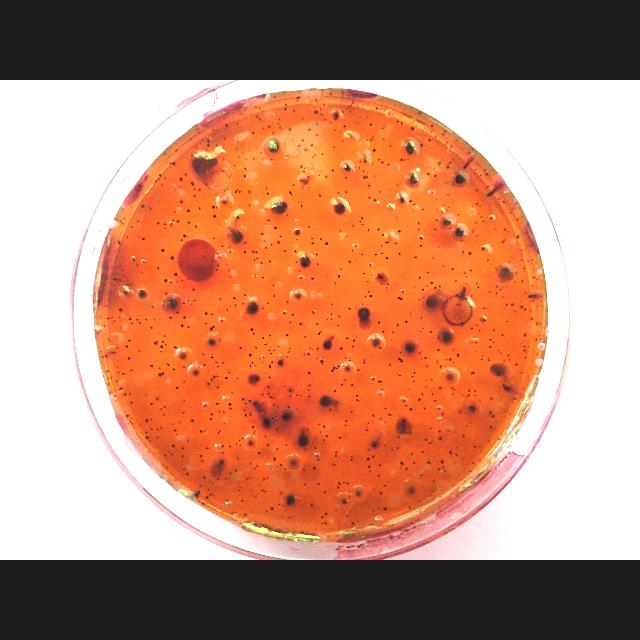colony: (191, 150, 217, 176), (394, 416, 414, 436), (332, 200, 348, 216), (266, 139, 282, 153), (356, 316, 372, 330), (490, 363, 506, 377), (246, 300, 258, 318), (424, 294, 438, 308), (300, 254, 312, 270), (356, 306, 372, 318), (404, 140, 416, 156), (272, 200, 286, 213), (230, 229, 242, 243), (318, 394, 330, 408), (454, 224, 466, 238), (278, 410, 294, 420), (284, 494, 296, 506), (404, 342, 416, 354), (500, 267, 512, 279), (455, 173, 467, 185), (166, 298, 178, 310), (260, 418, 272, 428), (298, 435, 308, 447), (442, 331, 452, 343), (409, 172, 419, 184), (250, 372, 260, 383), (254, 401, 262, 414), (206, 337, 216, 347), (342, 163, 352, 173), (138, 288, 148, 298), (502, 383, 512, 393), (398, 194, 406, 206), (372, 337, 381, 347), (324, 340, 332, 350), (216, 457, 226, 465), (442, 218, 452, 226), (332, 111, 340, 121), (374, 272, 384, 280), (246, 439, 254, 448), (290, 458, 298, 467), (408, 486, 417, 494), (446, 373, 454, 381), (294, 228, 302, 236), (220, 198, 228, 206), (178, 354, 188, 360), (459, 286, 469, 292), (276, 359, 284, 366), (295, 292, 301, 300), (192, 369, 198, 377), (344, 365, 350, 373), (340, 498, 348, 504), (356, 490, 362, 498), (372, 442, 378, 448), (122, 290, 128, 296), (438, 418, 444, 424), (272, 456, 278, 462), (226, 502, 232, 508), (269, 505, 275, 511), (260, 478, 268, 482), (260, 401, 266, 405), (202, 404, 208, 408), (112, 277, 118, 281), (212, 374, 216, 380), (334, 366, 338, 372), (298, 322, 304, 326), (208, 327, 214, 331), (117, 240, 121, 246), (252, 274, 258, 278), (179, 176, 183, 182), (410, 126, 414, 132), (288, 190, 292, 196), (480, 246, 486, 250), (456, 353, 460, 359), (468, 405, 474, 409), (490, 412, 494, 418), (378, 392, 384, 396), (448, 449, 452, 455), (376, 474, 382, 478), (379, 490, 383, 496), (382, 507, 388, 511), (310, 502, 314, 508), (278, 462, 282, 468), (283, 466, 287, 472), (316, 481, 320, 487), (263, 488, 267, 494), (225, 498, 229, 504), (396, 252, 402, 255), (384, 240, 390, 243), (421, 142, 424, 148), (288, 388, 292, 392), (388, 112, 392, 116), (154, 341, 158, 345), (170, 256, 174, 260), (132, 258, 136, 262), (156, 266, 160, 270), (174, 272, 178, 276), (169, 222, 173, 226), (180, 200, 184, 204), (119, 307, 123, 311), (106, 316, 110, 320), (128, 317, 132, 321), (144, 318, 148, 322), (152, 318, 156, 322), (168, 316, 172, 320), (180, 323, 184, 327), (127, 357, 131, 361), (150, 364, 154, 368), (158, 373, 162, 377), (161, 372, 165, 376), (166, 363, 170, 367), (128, 392, 132, 396), (119, 387, 123, 391), (149, 402, 153, 406), (190, 419, 194, 423), (145, 419, 149, 423), (126, 414, 130, 418), (146, 436, 150, 440), (171, 444, 175, 448), (205, 495, 209, 499), (211, 482, 215, 486), (228, 444, 232, 448), (238, 444, 242, 448), (251, 425, 255, 429), (228, 402, 232, 406), (268, 364, 272, 368), (248, 364, 252, 368), (248, 353, 252, 357), (269, 352, 273, 356), (285, 355, 289, 359), (268, 334, 272, 338), (332, 366, 336, 370), (352, 338, 356, 342), (317, 332, 321, 336), (288, 321, 292, 325), (291, 312, 295, 316), (282, 311, 286, 315), (285, 300, 289, 304), (272, 294, 276, 298), (312, 310, 316, 314), (377, 321, 381, 325), (397, 296, 401, 300), (401, 290, 405, 294), (369, 294, 373, 298), (363, 294, 367, 298), (384, 286, 388, 290), (363, 272, 367, 276), (337, 274, 341, 278), (348, 260, 352, 264), (298, 276, 302, 280), (314, 253, 318, 257), (374, 252, 378, 256), (385, 257, 389, 261), (380, 243, 384, 247), (360, 217, 364, 221), (324, 242, 328, 246), (311, 242, 315, 246), (300, 204, 304, 208), (277, 240, 281, 244), (274, 226, 278, 230), (266, 218, 270, 222), (270, 243, 274, 247), (264, 246, 268, 250), (261, 276, 265, 280), (266, 302, 270, 306), (210, 312, 214, 316), (203, 321, 207, 325), (218, 338, 222, 342), (185, 298, 189, 302), (172, 162, 176, 166), (191, 182, 195, 186), (243, 174, 247, 178), (288, 128, 292, 132), (296, 96, 300, 100), (314, 110, 318, 114), (372, 149, 376, 153), (428, 138, 432, 142), (434, 135, 438, 139), (409, 199, 413, 203), (318, 194, 322, 198), (235, 215, 239, 219), (303, 148, 307, 152), (434, 218, 438, 222), (413, 256, 417, 260), (502, 238, 506, 242), (516, 235, 520, 239), (489, 215, 493, 219), (418, 276, 422, 280), (510, 302, 514, 306), (504, 302, 508, 306), (482, 318, 486, 322), (488, 338, 492, 342), (471, 371, 475, 375), (466, 393, 470, 397), (438, 364, 442, 368), (436, 348, 440, 352), (448, 358, 452, 362), (368, 263, 372, 267), (420, 236, 424, 240), (448, 227, 452, 231), (401, 274, 405, 278), (173, 346, 177, 350), (130, 322, 134, 326), (378, 380, 382, 384), (355, 394, 359, 398), (356, 398, 360, 402), (380, 388, 384, 392), (372, 414, 376, 418), (464, 412, 468, 416), (489, 425, 493, 429), (378, 346, 382, 350), (438, 429, 442, 433), (447, 428, 451, 432), (424, 438, 428, 442), (454, 453, 458, 457), (400, 461, 404, 465), (410, 452, 414, 456), (440, 460, 444, 464), (437, 468, 441, 472), (371, 455, 375, 459), (372, 487, 376, 491), (334, 508, 338, 512), (324, 512, 328, 516), (320, 515, 324, 519), (336, 486, 340, 490), (346, 482, 350, 486), (349, 458, 353, 462), (322, 425, 326, 429), (318, 422, 322, 426), (306, 427, 310, 431), (325, 434, 329, 438), (334, 450, 338, 454), (313, 446, 317, 450), (303, 448, 307, 452), (266, 443, 270, 447), (315, 454, 319, 458), (332, 462, 336, 466), (302, 482, 306, 486), (253, 466, 257, 470), (228, 472, 232, 476), (243, 512, 247, 516), (265, 510, 269, 514), (160, 250, 167, 252), (195, 225, 198, 229), (213, 215, 217, 218), (165, 292, 168, 296), (150, 326, 154, 329), (125, 344, 128, 348), (122, 372, 125, 376), (172, 368, 175, 372), (175, 386, 179, 389), (210, 354, 213, 358), (207, 382, 210, 386), (224, 376, 228, 379), (115, 380, 118, 384), (170, 452, 173, 456), (187, 472, 190, 476), (202, 476, 205, 480), (196, 491, 200, 494), (206, 446, 210, 449), (220, 444, 223, 448), (286, 351, 290, 354), (262, 344, 268, 346), (341, 382, 344, 386), (356, 368, 359, 372), (331, 302, 334, 306), (396, 323, 399, 327), (404, 321, 408, 324), (345, 235, 349, 238), (279, 235, 283, 238), (263, 240, 267, 243), (251, 250, 255, 253), (243, 250, 247, 253), (252, 258, 255, 262), (228, 250, 232, 253), (212, 237, 215, 241), (217, 264, 220, 268), (232, 296, 235, 300), (250, 328, 253, 332), (182, 301, 185, 305), (190, 154, 193, 158), (252, 156, 255, 160), (351, 102, 355, 105), (438, 162, 442, 165), (426, 172, 430, 175), (431, 191, 434, 195), (366, 185, 372, 187), (266, 192, 270, 195), (238, 190, 242, 193), (432, 228, 438, 230), (419, 245, 423, 248), (462, 250, 464, 256), (468, 252, 472, 255), (486, 258, 489, 262), (426, 284, 429, 288), (524, 332, 526, 338), (506, 354, 509, 358), (438, 386, 442, 389), (431, 378, 434, 382), (421, 316, 424, 320), (116, 346, 120, 349), (384, 406, 388, 409), (431, 438, 434, 442), (421, 451, 425, 454), (396, 434, 399, 438), (442, 466, 446, 469), (366, 457, 369, 461), (368, 471, 372, 474), (321, 522, 324, 526), (343, 480, 345, 486), (338, 436, 342, 439), (314, 436, 318, 439), (312, 466, 316, 469), (248, 476, 252, 479), (237, 457, 240, 461), (252, 431, 255, 434), (255, 346, 258, 349), (356, 105, 359, 108), (381, 160, 384, 163), (401, 122, 404, 125), (501, 240, 504, 243), (456, 212, 459, 215), (451, 386, 454, 389), (308, 352, 310, 356), (320, 360, 324, 362), (112, 352, 116, 354), (160, 346, 164, 348), (163, 335, 167, 337), (141, 260, 145, 262), (164, 278, 166, 282), (184, 234, 186, 238), (187, 222, 191, 224), (198, 207, 202, 209), (212, 206, 216, 208), (176, 220, 180, 222), (170, 280, 172, 284), (192, 288, 194, 292), (112, 320, 116, 322), (138, 322, 142, 324), (151, 306, 155, 308), (175, 312, 179, 314), (184, 316, 186, 320), (128, 340, 132, 342), (210, 378, 214, 380), (217, 374, 219, 378), (222, 361, 224, 365), (130, 402, 134, 404), (124, 393, 126, 397), (156, 398, 160, 400), (150, 428, 154, 430), (156, 428, 160, 430), (160, 426, 162, 430), (144, 432, 148, 434), (148, 440, 152, 442), (174, 428, 176, 432), (184, 468, 186, 472), (200, 454, 202, 458), (200, 430, 202, 434), (218, 430, 222, 432), (228, 408, 232, 410), (250, 412, 252, 416), (244, 408, 246, 412), (264, 435, 268, 437), (248, 400, 252, 402), (241, 398, 245, 400), (216, 402, 218, 406), (276, 406, 280, 408), (272, 397, 276, 399), (260, 394, 264, 396), (266, 386, 270, 388), (268, 376, 272, 378), (270, 361, 274, 363), (290, 394, 292, 398), (296, 393, 298, 397), (300, 394, 302, 398), (308, 394, 310, 398), (306, 389, 310, 391), (260, 362, 264, 364), (273, 348, 275, 352), (278, 345, 280, 349), (288, 348, 292, 350), (285, 334, 289, 336), (304, 335, 306, 339), (302, 354, 306, 356), (320, 356, 324, 358), (316, 348, 320, 350), (344, 357, 348, 359), (330, 370, 334, 372), (334, 389, 336, 393), (362, 362, 366, 364), (315, 323, 319, 325), (337, 324, 339, 328), (338, 316, 342, 318), (331, 312, 333, 316), (348, 308, 352, 310), (366, 280, 368, 284), (386, 284, 390, 286), (395, 282, 397, 286), (338, 268, 342, 270), (310, 278, 314, 280), (352, 249, 354, 253), (354, 244, 358, 246), (394, 242, 398, 244), (378, 228, 380, 232), (398, 230, 402, 232), (368, 228, 370, 232), (338, 230, 342, 232), (310, 237, 314, 239), (296, 260, 298, 264), (256, 250, 258, 254), (229, 244, 231, 248), (272, 283, 274, 287), (216, 268, 218, 272), (228, 269, 230, 273), (242, 302, 244, 306), (226, 308, 228, 312), (194, 298, 196, 302), (204, 312, 208, 314), (251, 332, 255, 334), (154, 180, 158, 182), (158, 174, 162, 176), (199, 188, 201, 192), (189, 139, 193, 141), (207, 140, 209, 144), (206, 144, 210, 146), (212, 128, 214, 132), (226, 124, 228, 128), (238, 156, 240, 160), (259, 106, 261, 110), (278, 126, 282, 128), (277, 122, 279, 126), (284, 108, 288, 110), (284, 104, 288, 106), (293, 109, 295, 113), (298, 145, 302, 147), (324, 176, 328, 178), (344, 177, 348, 179), (322, 152, 324, 156), (312, 156, 314, 160), (310, 144, 314, 146), (332, 146, 336, 148), (334, 128, 336, 132), (316, 122, 318, 126), (344, 124, 346, 128), (348, 111, 352, 113), (348, 104, 350, 108), (370, 123, 372, 127), (372, 136, 376, 138), (390, 144, 392, 148), (382, 138, 386, 140), (382, 126, 384, 130), (431, 124, 433, 128), (442, 132, 444, 136), (446, 140, 448, 144), (447, 150, 451, 152), (446, 166, 450, 168), (448, 162, 452, 164), (432, 168, 436, 170), (374, 198, 376, 202), (264, 188, 268, 190), (248, 204, 252, 206), (223, 190, 227, 192), (418, 221, 420, 225), (418, 228, 420, 232), (432, 256, 434, 260), (504, 228, 506, 232), (478, 206, 482, 208), (436, 208, 438, 212), (422, 288, 424, 292), (439, 284, 441, 288), (454, 280, 458, 282), (450, 268, 454, 270), (471, 294, 473, 298), (488, 291, 492, 293), (494, 293, 498, 295), (520, 249, 524, 251), (482, 306, 484, 310), (484, 306, 486, 310), (522, 346, 526, 348), (515, 364, 519, 366), (520, 372, 524, 374), (488, 346, 492, 348), (474, 342, 478, 344), (488, 358, 490, 362), (499, 382, 503, 384), (468, 388, 470, 392), (451, 393, 455, 395), (418, 298, 420, 302), (118, 316, 122, 318), (398, 358, 402, 360), (400, 360, 404, 362), (388, 364, 392, 366), (398, 375, 402, 377), (412, 372, 416, 374), (424, 386, 428, 388), (402, 400, 406, 402), (404, 404, 408, 406), (438, 407, 440, 411), (490, 410, 492, 414), (426, 364, 428, 368), (356, 352, 358, 356), (438, 438, 442, 440), (462, 436, 466, 438), (462, 434, 466, 436), (466, 424, 468, 428), (428, 442, 432, 444), (454, 446, 458, 448), (397, 446, 399, 450), (384, 444, 386, 448), (444, 468, 446, 472), (378, 464, 382, 466), (368, 448, 370, 452), (367, 466, 371, 468), (383, 484, 387, 486), (432, 480, 436, 482), (433, 488, 437, 490), (371, 510, 375, 512), (348, 510, 352, 512), (346, 514, 348, 518), (351, 522, 355, 524), (357, 520, 359, 524), (324, 522, 326, 526), (324, 490, 326, 494), (338, 482, 340, 486), (329, 408, 331, 412), (344, 423, 346, 427), (318, 432, 322, 434), (366, 428, 368, 432), (322, 439, 326, 441), (286, 443, 288, 447), (277, 447, 279, 451), (258, 451, 260, 455), (302, 468, 306, 470), (316, 458, 320, 460), (256, 464, 258, 468), (238, 486, 242, 488), (246, 477, 248, 481), (251, 488, 253, 492), (261, 490, 265, 492), (278, 502, 280, 506), (288, 515, 290, 519), (280, 516, 284, 518), (364, 423, 368, 425), (187, 210, 190, 212), (174, 210, 176, 213), (192, 195, 195, 197), (187, 326, 190, 328), (182, 366, 185, 368), (217, 366, 220, 368), (217, 387, 220, 389), (105, 370, 108, 372), (156, 436, 158, 439), (182, 446, 184, 449), (167, 466, 170, 468), (217, 478, 220, 480), (187, 440, 190, 442), (210, 413, 213, 415), (218, 411, 220, 414), (245, 414, 248, 416), (245, 403, 248, 405), (230, 392, 233, 394), (321, 364, 324, 366), (351, 384, 354, 386), (346, 336, 348, 339), (361, 254, 364, 256), (381, 252, 384, 254), (352, 225, 354, 228), (294, 250, 296, 253), (261, 232, 263, 235), (227, 247, 229, 250), (221, 245, 223, 248), (235, 304, 238, 306), (240, 346, 242, 349), (164, 177, 166, 180), (185, 174, 188, 176), (175, 150, 178, 152), (222, 138, 225, 140), (215, 128, 218, 130), (237, 124, 240, 126), (255, 106, 258, 108), (356, 122, 359, 124), (358, 167, 360, 170), (396, 120, 399, 122), (434, 175, 436, 178), (363, 177, 365, 180), (345, 190, 347, 193), (368, 197, 370, 200), (375, 200, 377, 203), (396, 217, 398, 220), (248, 190, 250, 193), (235, 191, 238, 193), (227, 188, 230, 190), (215, 193, 218, 195), (218, 222, 220, 225), (461, 240, 464, 242), (471, 206, 474, 208), (476, 202, 478, 205), (441, 210, 444, 212), (446, 194, 449, 196), (426, 271, 429, 273), (476, 286, 479, 288), (471, 327, 474, 329), (501, 334, 504, 336), (525, 356, 527, 359), (491, 398, 494, 400), (430, 331, 432, 334), (411, 376, 414, 378), (421, 393, 424, 395), (424, 406, 426, 409), (430, 426, 432, 429), (378, 506, 380, 509), (351, 456, 354, 458), (351, 410, 354, 412), (266, 476, 268, 479), (235, 470, 238, 472), (255, 496, 258, 498), (366, 422, 369, 424), (162, 341, 164, 343), (142, 238, 144, 240), (215, 207, 217, 209), (172, 219, 174, 221), (163, 223, 165, 225), (157, 222, 159, 224), (164, 227, 166, 229), (180, 239, 182, 241), (131, 226, 133, 228), (138, 220, 140, 222), (142, 206, 144, 208), (150, 208, 152, 210), (126, 236, 128, 238), (136, 264, 138, 266), (130, 283, 132, 285), (181, 279, 183, 281), (187, 278, 189, 280), (136, 319, 138, 321), (138, 350, 140, 352), (131, 369, 133, 371), (204, 364, 206, 366), (228, 372, 230, 374), (216, 362, 218, 364), (164, 406, 166, 408), (160, 408, 162, 410), (163, 414, 165, 416), (183, 412, 185, 414), (184, 399, 186, 401), (111, 377, 113, 379), (150, 419, 152, 421), (172, 423, 174, 425), (182, 455, 184, 457), (164, 455, 166, 457), (168, 451, 170, 453), (200, 485, 202, 487), (210, 494, 212, 496), (207, 489, 209, 491), (209, 481, 211, 483), (204, 430, 206, 432), (217, 432, 219, 434), (210, 418, 212, 420), (222, 452, 224, 454), (236, 443, 238, 445), (239, 439, 241, 441), (242, 437, 244, 439), (223, 422, 225, 424), (223, 411, 225, 413), (276, 428, 278, 430), (276, 419, 278, 421), (272, 417, 274, 419), (275, 415, 277, 417), (275, 412, 277, 414), (288, 406, 290, 408), (273, 404, 275, 406), (270, 396, 272, 398), (268, 393, 270, 395), (266, 372, 268, 374), (284, 385, 286, 387), (296, 408, 298, 410), (309, 384, 311, 386), (308, 372, 310, 374), (236, 378, 238, 380), (252, 362, 254, 364), (255, 365, 257, 367), (262, 356, 264, 358), (258, 358, 260, 360), (262, 337, 264, 339), (309, 347, 311, 349), (312, 349, 314, 351), (322, 356, 324, 358), (316, 358, 318, 360), (340, 348, 342, 350), (338, 366, 340, 368), (349, 360, 351, 362), (363, 359, 365, 361), (352, 346, 354, 348), (331, 318, 333, 320), (327, 318, 329, 320), (383, 331, 385, 333), (392, 332, 394, 334), (400, 298, 402, 300), (368, 291, 370, 293), (371, 274, 373, 276), (334, 282, 336, 284), (317, 264, 319, 266), (383, 234, 385, 236), (362, 224, 364, 226), (359, 220, 361, 222), (320, 238, 322, 240), (308, 226, 310, 228), (296, 239, 298, 241), (284, 250, 286, 252), (245, 242, 247, 244), (260, 262, 262, 264), (269, 261, 271, 263), (244, 294, 246, 296), (262, 308, 264, 310), (220, 298, 222, 300), (213, 326, 215, 328), (191, 303, 193, 305), (158, 178, 160, 180), (161, 184, 163, 186), (169, 162, 171, 164), (194, 188, 196, 190), (180, 186, 182, 188), (216, 144, 218, 146), (252, 132, 254, 134), (234, 165, 236, 167), (244, 168, 246, 170), (260, 152, 262, 154), (248, 150, 250, 152), (256, 116, 258, 118), (259, 118, 261, 120), (268, 126, 270, 128), (262, 127, 264, 129), (272, 132, 274, 134), (278, 118, 280, 120), (302, 118, 304, 120), (308, 128, 310, 130), (292, 139, 294, 141), (302, 140, 304, 142), (286, 155, 288, 157), (271, 158, 273, 160), (300, 166, 302, 168), (303, 167, 305, 169), (303, 170, 305, 172), (307, 176, 309, 178), (318, 174, 320, 176), (332, 170, 334, 172), (314, 154, 316, 156), (316, 134, 318, 136), (342, 140, 344, 142), (339, 131, 341, 133), (320, 114, 322, 116), (319, 108, 321, 110), (324, 119, 326, 121), (342, 111, 344, 113), (367, 114, 368, 118), (366, 139, 368, 141), (363, 170, 365, 172), (355, 167, 357, 169), (372, 163, 374, 165), (364, 160, 366, 162), (378, 159, 380, 161), (388, 164, 390, 166), (400, 159, 402, 161), (404, 159, 406, 161), (407, 159, 409, 161), (421, 129, 423, 131), (431, 131, 433, 133), (427, 165, 429, 167), (413, 204, 415, 206), (422, 209, 424, 211), (412, 210, 414, 212), (379, 191, 381, 193), (374, 175, 376, 177), (366, 176, 368, 178), (337, 192, 339, 194), (340, 194, 342, 196), (308, 186, 310, 188), (302, 186, 304, 188), (300, 187, 302, 189), (307, 189, 309, 191), (293, 184, 295, 186), (307, 150, 309, 152), (396, 184, 398, 186), (438, 246, 440, 248), (442, 265, 444, 267), (471, 231, 473, 233), (476, 235, 478, 237), (476, 240, 478, 242), (491, 246, 493, 248), (475, 222, 477, 224), (482, 220, 484, 222), (481, 216, 483, 218), (448, 206, 450, 208), (443, 204, 445, 206), (436, 198, 438, 200), (476, 189, 478, 191), (487, 186, 489, 188), (430, 282, 432, 284), (434, 286, 436, 288), (470, 270, 472, 272), (464, 272, 466, 274), (465, 276, 467, 278), (476, 282, 478, 284), (496, 286, 498, 288), (500, 289, 502, 291), (501, 282, 503, 284), (514, 281, 516, 283), (522, 280, 524, 282), (515, 271, 517, 273), (508, 261, 510, 263), (520, 259, 522, 261), (502, 296, 504, 298), (524, 292, 526, 294), (520, 306, 522, 308), (524, 308, 526, 310), (532, 318, 534, 320), (487, 307, 489, 309), (514, 311, 516, 313), (506, 320, 508, 322), (475, 324, 477, 326), (478, 329, 480, 331), (493, 341, 495, 343), (524, 349, 526, 351), (500, 352, 502, 354), (498, 350, 500, 352), (475, 351, 477, 353), (481, 355, 483, 357), (480, 358, 482, 360), (503, 360, 505, 362), (514, 398, 516, 400), (474, 390, 476, 392), (474, 394, 476, 396), (453, 388, 455, 390), (436, 360, 438, 362), (436, 362, 438, 364), (445, 359, 447, 361), (453, 349, 455, 351), (438, 337, 440, 339), (437, 335, 439, 337), (420, 331, 422, 333), (422, 327, 424, 329), (414, 286, 416, 288), (165, 344, 167, 346), (421, 358, 423, 360), (425, 357, 427, 359), (400, 351, 402, 353), (373, 378, 375, 380), (413, 380, 415, 382), (408, 389, 410, 391), (418, 398, 420, 400), (431, 394, 433, 396), (435, 400, 437, 402), (410, 408, 412, 410), (380, 418, 382, 420), (388, 413, 390, 415), (390, 414, 392, 416), (441, 413, 443, 415), (478, 400, 480, 402), (470, 422, 472, 424), (474, 446, 476, 448), (391, 449, 393, 451), (406, 468, 408, 470), (413, 462, 415, 464), (427, 461, 429, 463), (429, 462, 431, 464), (420, 474, 422, 476), (472, 462, 474, 464), (462, 458, 464, 460), (334, 404, 336, 406), (346, 420, 348, 422), (250, 462, 252, 464), (202, 460, 204, 462), (242, 500, 244, 502), (372, 420, 374, 422), (118, 372, 120, 373), (300, 104, 302, 105), (331, 122, 332, 124), (351, 104, 352, 106), (478, 213, 480, 214), (452, 362, 454, 363), (419, 352, 421, 353), (188, 236, 188, 238), (176, 282, 178, 282), (184, 382, 186, 382), (158, 368, 160, 368), (285, 426, 287, 426), (262, 394, 264, 394), (410, 314, 412, 314), (256, 258, 258, 258), (368, 134, 368, 136), (438, 183, 438, 185), (473, 230, 475, 230), (508, 232, 508, 232), (446, 210, 448, 210), (523, 268, 525, 268), (495, 268, 497, 268), (494, 328, 494, 332), (474, 337, 474, 339), (397, 374, 399, 374)
